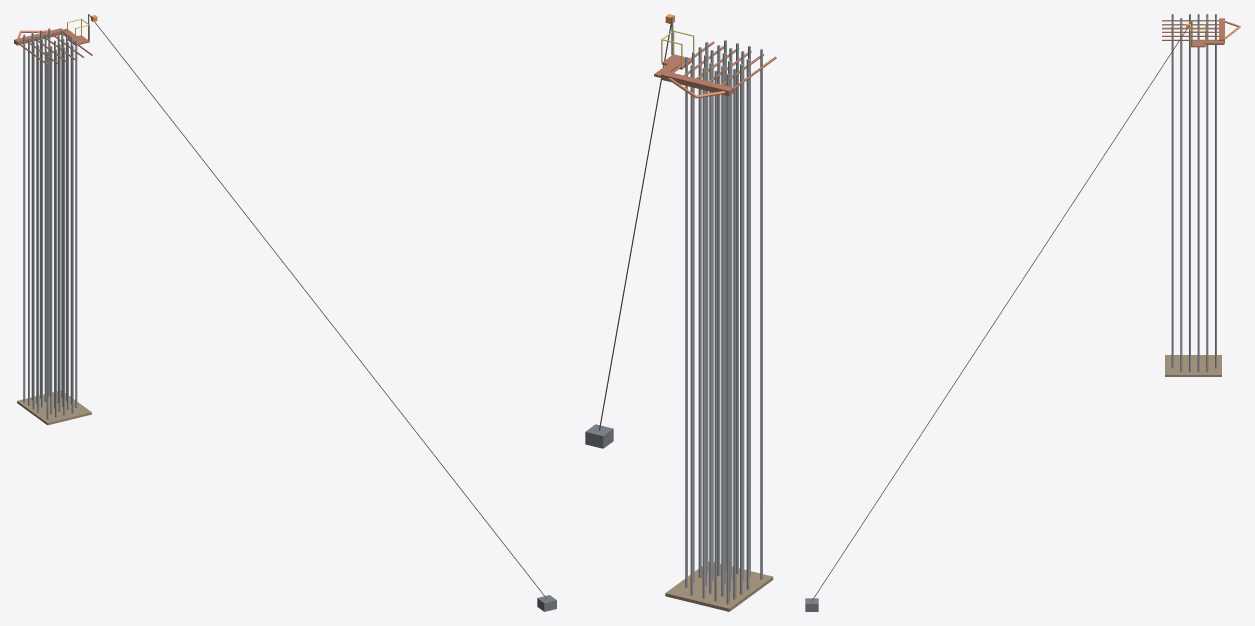
Rendered from setback.glb.
3 views of the same model, side by side, from view 1: azimuth 30°, elevation 25°; view 2: azimuth 150°, elevation 25°; view 3: azimuth 270°, elevation 25° (orthographic). The views are drawn at different scales.
Bounding box in the file's own units: 22.85 × 34.82 × 29.11.
